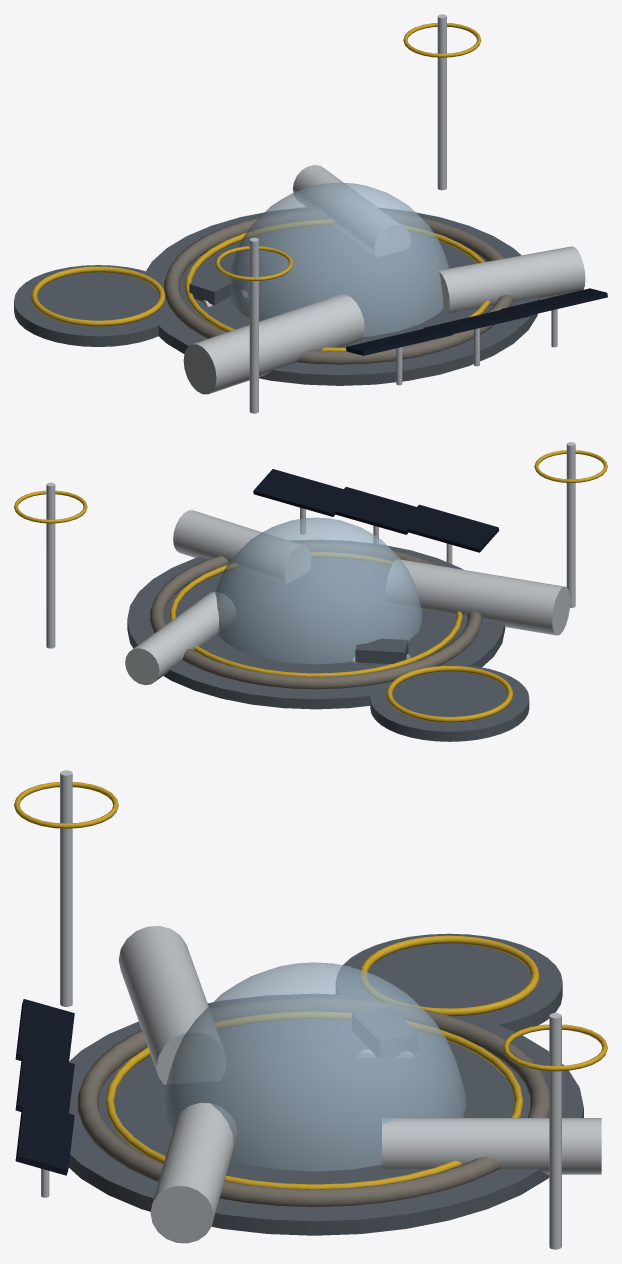
The model's file is mycenae.glb.
The picture shows the model from 3 angles, top to bottom: view 1: azimuth 30°, elevation 25°; view 2: azimuth 150°, elevation 25°; view 3: azimuth 270°, elevation 25°; orthographic projection. The views are drawn at different scales.
Visible parts, largest first — view 1: optimized lunar city glb; view 2: optimized lunar city glb; view 3: optimized lunar city glb.
Part boxes in pixels (x1=…): optimized lunar city glb: x1=14, y1=14, x2=607, y2=413; optimized lunar city glb: x1=14, y1=442, x2=607, y2=741; optimized lunar city glb: x1=14, y1=770, x2=607, y2=1249.
Bounding box in the file's own units: 2.15 × 0.7225 × 1.68.
